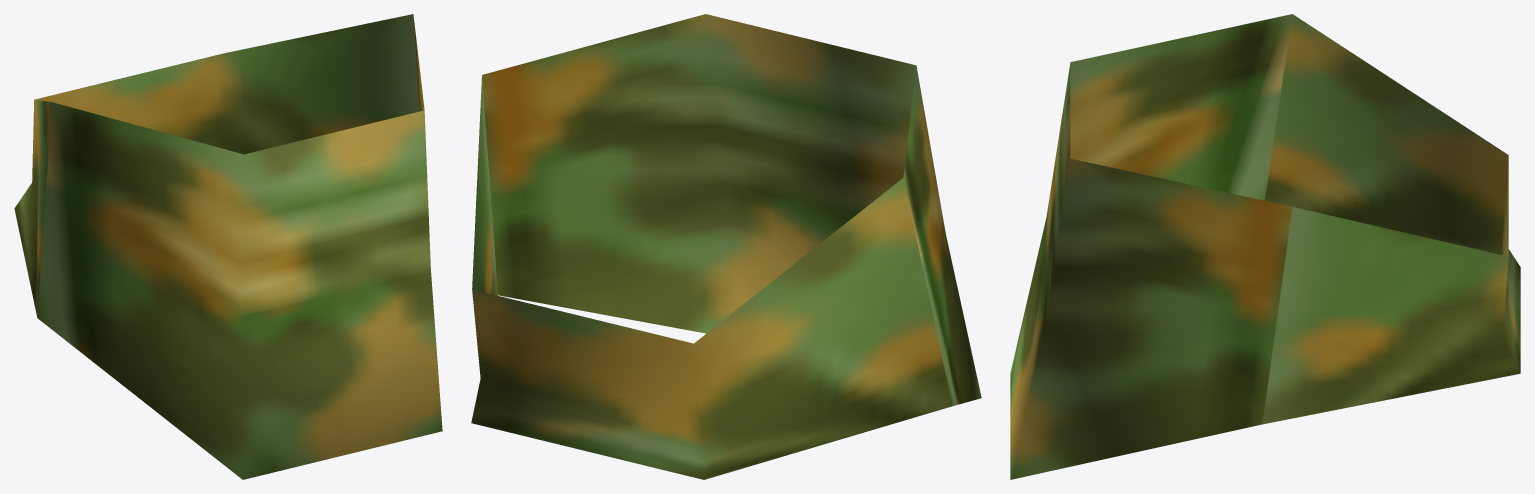
The model's file is batch_0111.obj.
The picture shows the model from 3 angles, left to right: view 1: azimuth 30°, elevation 25°; view 2: azimuth 150°, elevation 25°; view 3: azimuth 270°, elevation 25°; orthographic projection. The views are drawn at different scales.
Visible parts, largest first — view 1: batch_0111; view 2: batch_0111; view 3: batch_0111.
Part boxes in pixels (x1=…): batch_0111: x1=14, y1=14, x2=442, y2=479; batch_0111: x1=471, y1=14, x2=981, y2=479; batch_0111: x1=1010, y1=14, x2=1520, y2=479.
Bounding box in the file's own units: 20.5 × 15 × 21.25.
Materials: 1 (1 with a texture image).
